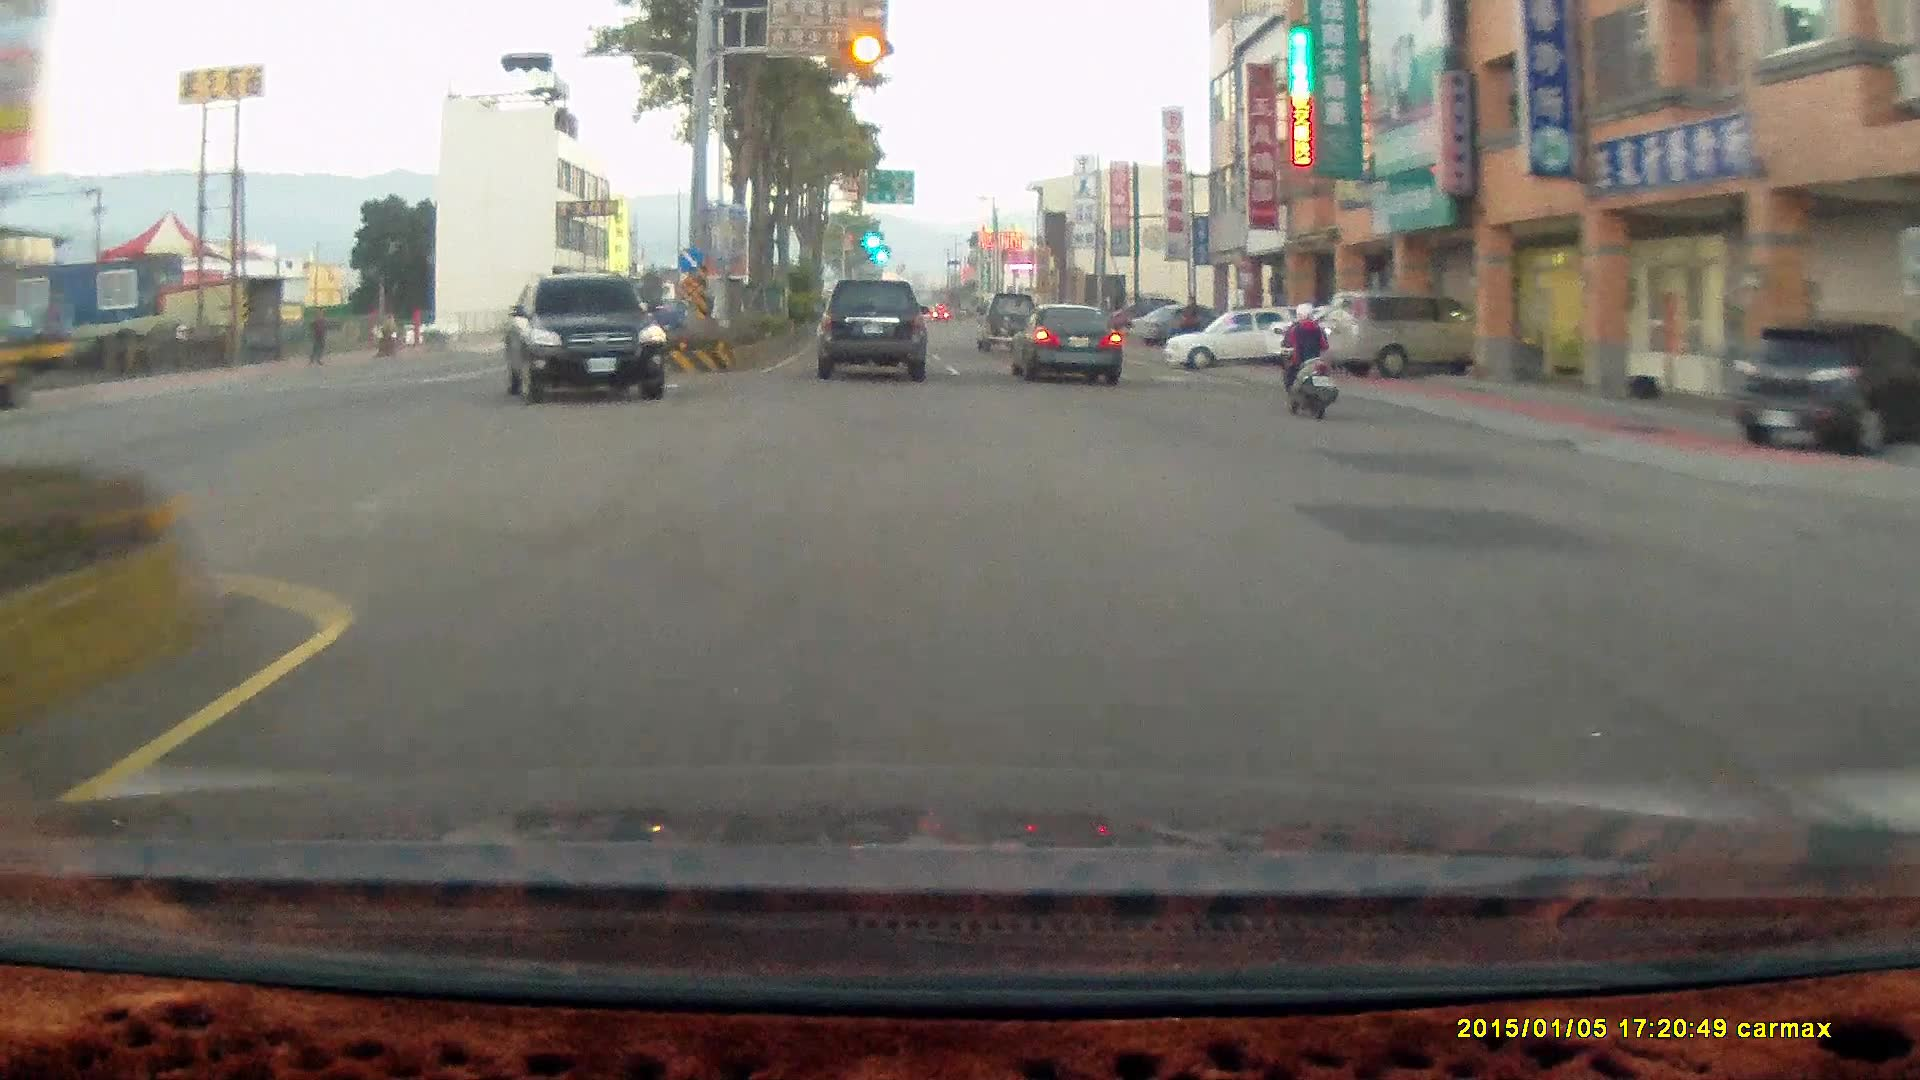pedestrian: (1177, 291, 1201, 349), (303, 306, 328, 359)
rider: (1269, 293, 1345, 421), (1274, 297, 1336, 415)
vehicle: (1728, 318, 1920, 457), (502, 272, 666, 402), (501, 270, 665, 400), (1323, 289, 1492, 377), (1322, 291, 1488, 380), (1270, 296, 1437, 369), (823, 274, 933, 378), (815, 276, 926, 380), (1167, 304, 1319, 374), (1008, 300, 1130, 382), (1161, 303, 1313, 368), (1007, 300, 1121, 383), (1131, 300, 1226, 344), (974, 291, 1042, 349)
